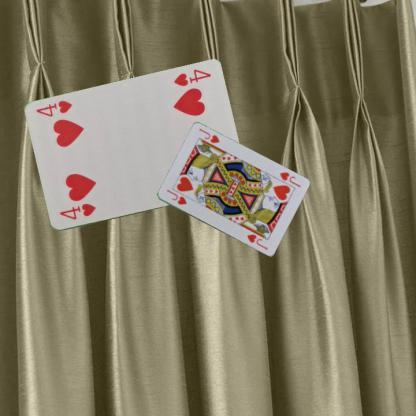4h: (171, 66, 212, 88), (57, 201, 97, 221)
Jh: (276, 169, 301, 189), (164, 186, 188, 206)
